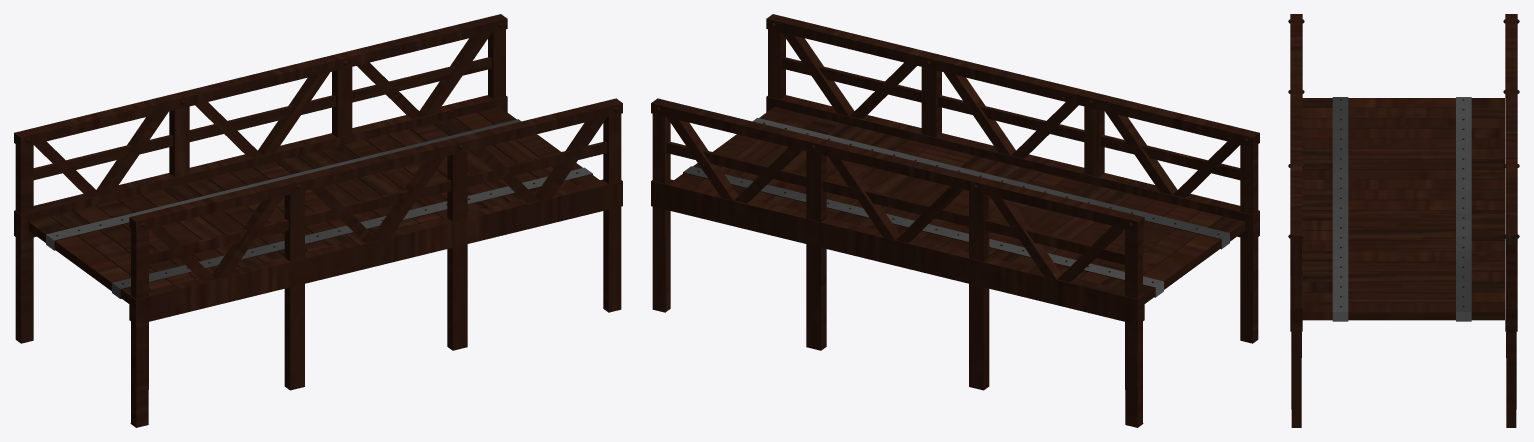
The picture shows the model from 3 angles, left to right: view 1: azimuth 30°, elevation 25°; view 2: azimuth 150°, elevation 25°; view 3: azimuth 270°, elevation 25°; orthographic projection. The views are drawn at different scales.
Visible parts, largest first — view 1: Bridge.001_Bridge_0.002, Bridge.001_Bridge_0.003, Bridge.001, Bridge.001_Bridge_0.001; view 2: Bridge.001_Bridge_0.003, Bridge.001_Bridge_0.002, Bridge.001, Bridge.001_Bridge_0.001, Bridge.001_Bridge_0.004; view 3: Bridge.001, Bridge.001_Bridge_0.001, Bridge.001_Bridge_0.002, Bridge.001_Bridge_0.003.
Part boxes in pixels (left/top/right/bottom): Bridge.001_Bridge_0.002: left=129, top=98, right=622, bottom=427; Bridge.001_Bridge_0.003: left=14, top=14, right=507, bottom=343; Bridge.001: left=28, top=107, right=599, bottom=303; Bridge.001_Bridge_0.001: left=46, top=119, right=592, bottom=298; Bridge.001_Bridge_0.003: left=651, top=98, right=1144, bottom=427; Bridge.001_Bridge_0.002: left=766, top=14, right=1259, bottom=343; Bridge.001: left=674, top=107, right=1245, bottom=303; Bridge.001_Bridge_0.001: left=683, top=118, right=1229, bottom=297; Bridge.001_Bridge_0.004: left=766, top=97, right=1253, bottom=240; Bridge.001: left=1302, top=98, right=1504, bottom=320; Bridge.001_Bridge_0.001: left=1332, top=97, right=1471, bottom=321; Bridge.001_Bridge_0.002: left=1288, top=14, right=1304, bottom=427; Bridge.001_Bridge_0.003: left=1503, top=14, right=1519, bottom=427.
Bounding box in the file's own units: 61.96 × 25.12 × 27.33.
5 materials, 5 textured.
